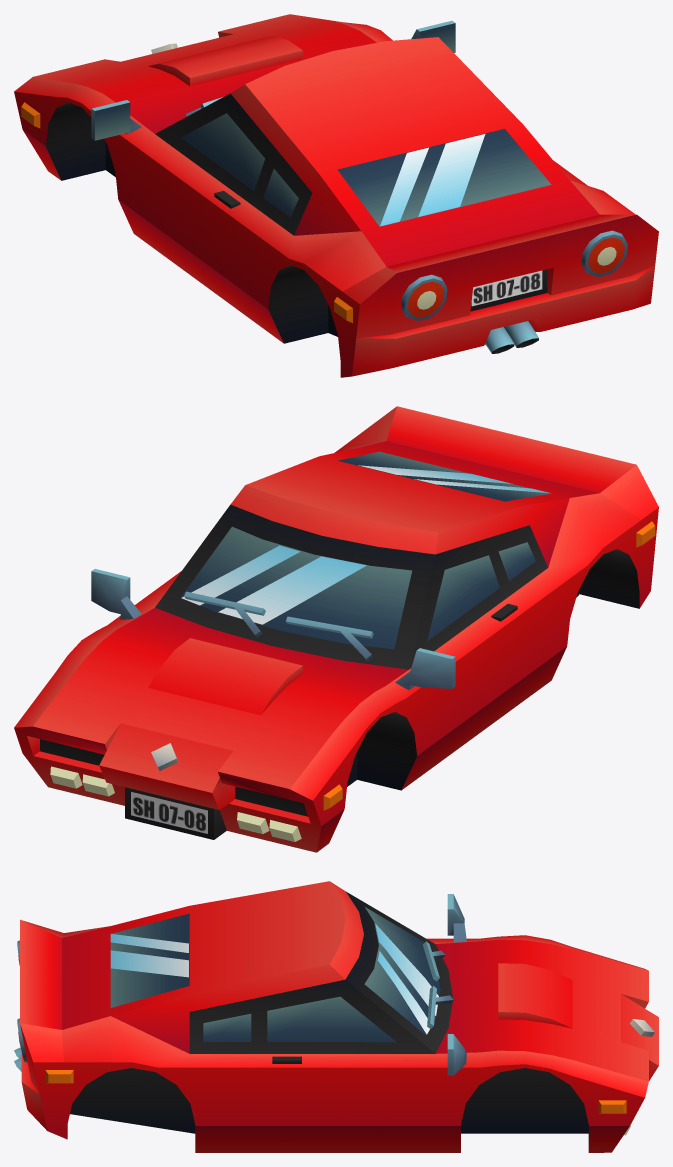
Rendered from car4.glb.
The picture shows the model from 3 angles, top to bottom: view 1: azimuth 30°, elevation 25°; view 2: azimuth 150°, elevation 25°; view 3: azimuth 270°, elevation 25°; orthographic projection. The views are drawn at different scales.
Visible parts, largest first — view 1: model_5.005; view 2: model_5.005; view 3: model_5.005.
Part boxes in pixels (bbox=[...]): model_5.005: bbox=[14, 14, 658, 377]; model_5.005: bbox=[14, 406, 658, 852]; model_5.005: bbox=[14, 881, 658, 1152].
Size of the model in its own units: 159 by 83.35 by 278.
Materials: 1 (1 with a texture image).
